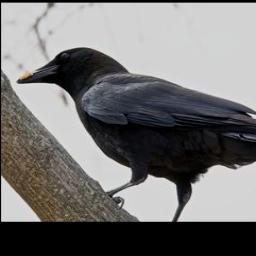Crow: (15, 46, 256, 221)
